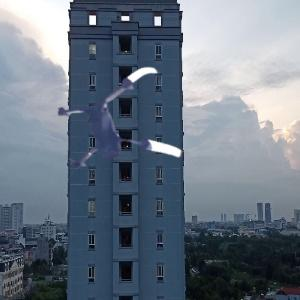drone: (45, 57, 193, 205)
